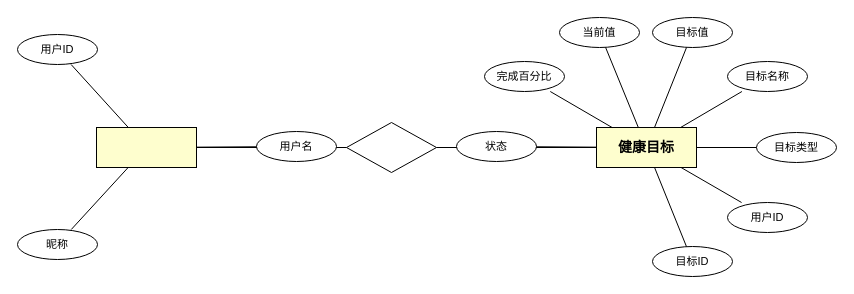
Image size: 854x294. Some labels were removed from this diagram. The shapes that lost their labels are listed below. From the top down, each one's box as (x1, y1, x2, y2) in pixels, then its label:
(96, 126, 196, 168): 用户
(346, 122, 436, 172): 设置
